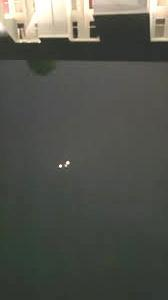Plane: (52, 153, 77, 178)
